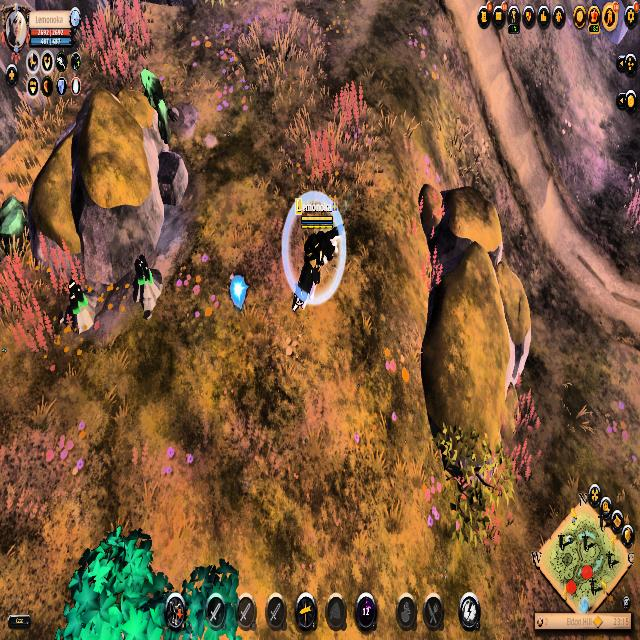ore tier 3: (131, 254, 164, 317), (65, 275, 97, 334)
